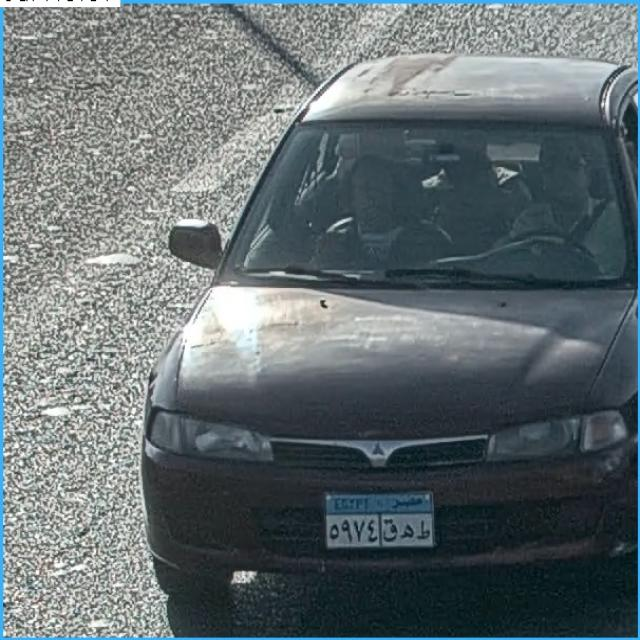windshield: (245, 116, 637, 276)
